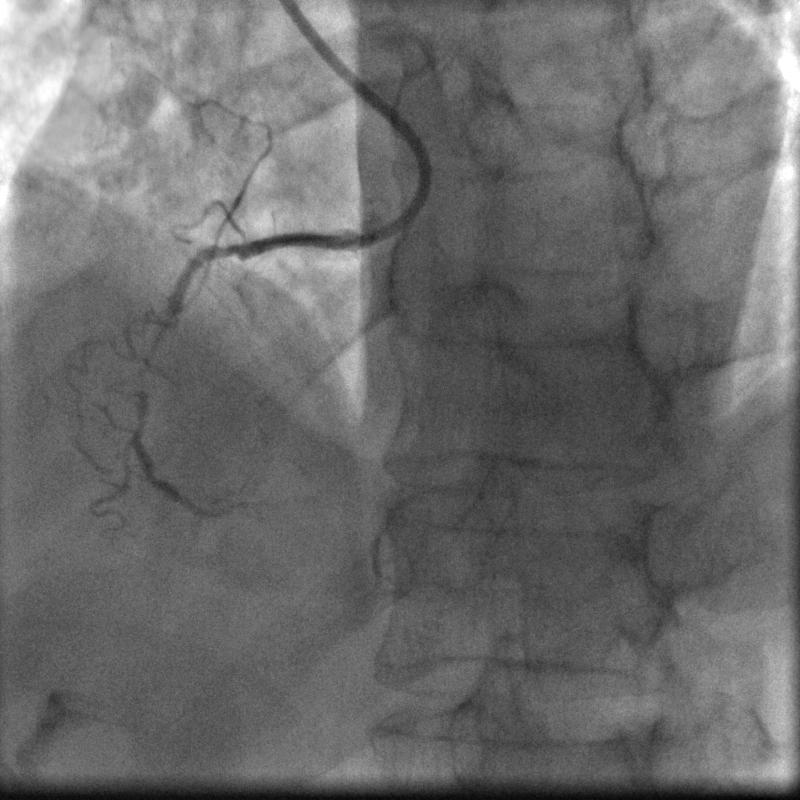Stenosis: (132, 292, 177, 395)
